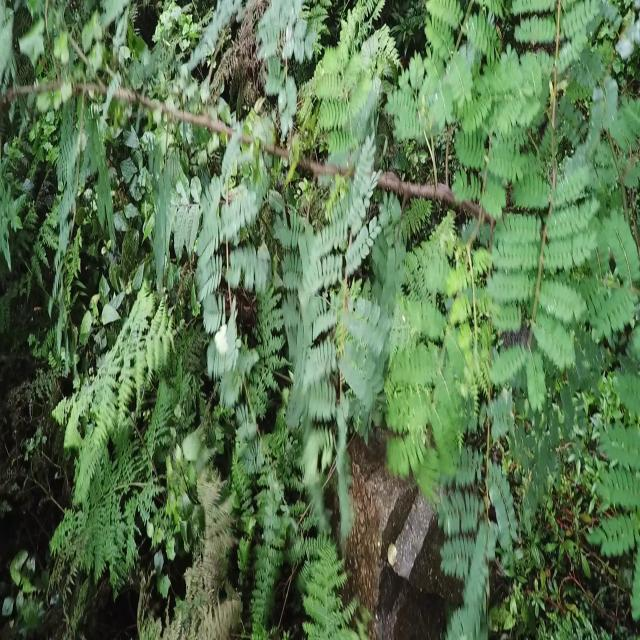Mysore-Thorn-Weed: (0, 0, 596, 425), (438, 442, 512, 640), (606, 348, 640, 620)
